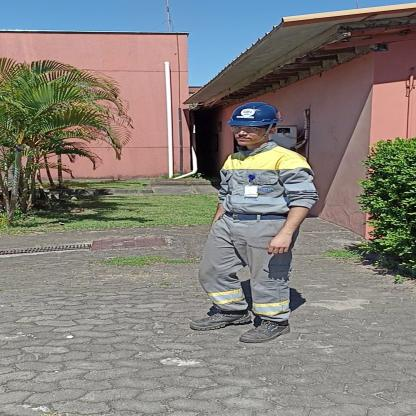Capacete: (228, 99, 284, 127)
